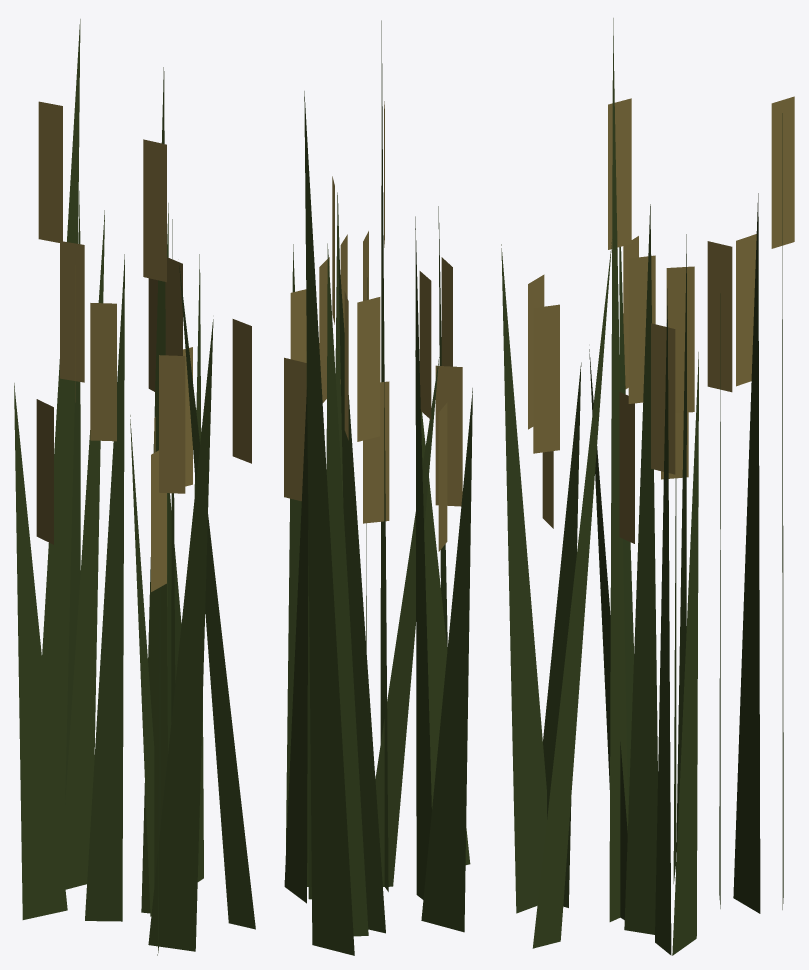
Rendered from reeds_clump_tall.obj.
3 renders of one model, left to right at view 1: azimuth 30°, elevation 25°; view 2: azimuth 150°, elevation 25°; view 3: azimuth 270°, elevation 25°, orthographic. The views are drawn at different scales.
Parts seen in each view (by area): view 1: reeds_clump_tall; view 2: reeds_clump_tall; view 3: reeds_clump_tall.
Part boxes in pixels (box(x1,y1,x2,y2)): reeds_clump_tall: box(14, 19, 255, 955); reeds_clump_tall: box(284, 20, 472, 955); reeds_clump_tall: box(501, 18, 794, 955).
Size of the model in its own units: 0.2858 by 1.25 by 0.3649.
